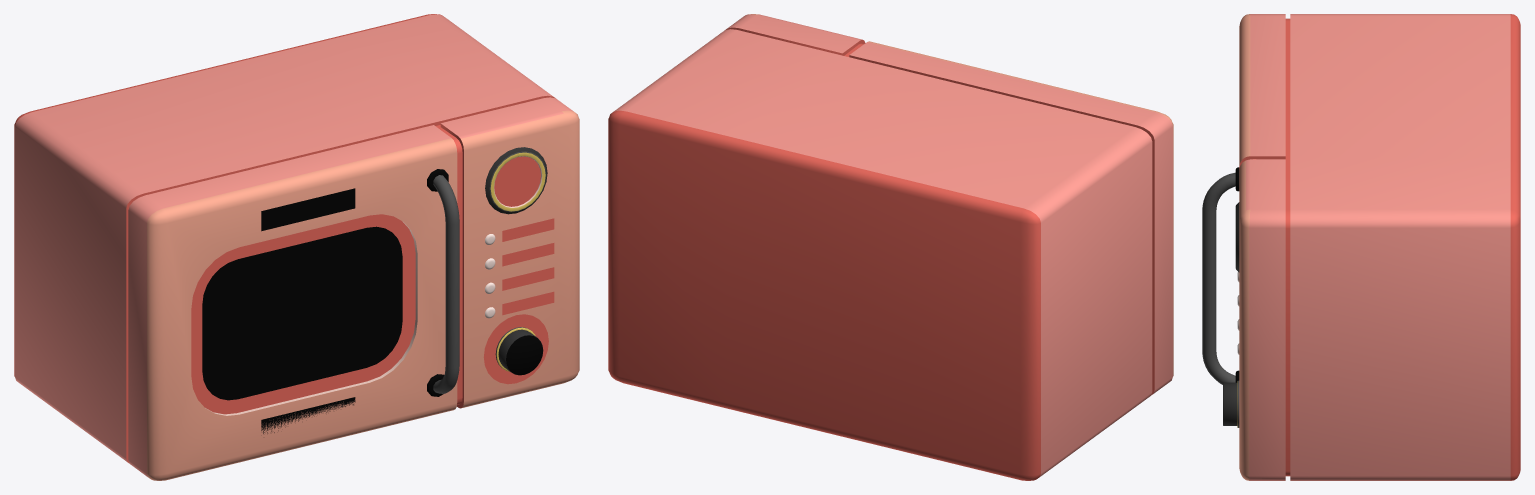
The model's file is 3d_MicroWave.fbx.
The picture shows the model from 3 angles, left to right: view 1: azimuth 30°, elevation 25°; view 2: azimuth 150°, elevation 25°; view 3: azimuth 270°, elevation 25°; orthographic projection.
Visible parts, largest first — view 1: 3d_MicroWave, 3d_MicroWaveDecals, 3d_MicrowaveKnob; view 2: 3d_MicroWave; view 3: 3d_MicroWave, 3d_MicrowaveKnob.
Boxes of the visible parts, x1,y1,x2,y2 form: 3d_MicroWave: (14, 14, 579, 480); 3d_MicroWaveDecals: (261, 188, 554, 433); 3d_MicrowaveKnob: (498, 329, 543, 375); 3d_MicroWave: (608, 14, 1173, 480); 3d_MicroWave: (1202, 14, 1520, 480); 3d_MicrowaveKnob: (1223, 382, 1237, 425).
Bounding box in the file's own units: 0.5 × 0.3 × 0.3221.
